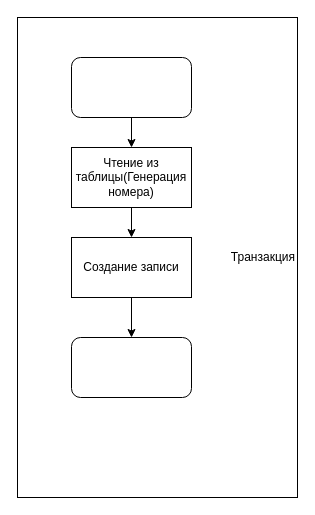
The diagram is 315 pixels wide and 515 high, and some of its shapes have lost their labels. The shapes that lost their labels are listed below. From the top down, each one's centre as x and y in pixels, then its label:
[131,87]: begin
[131,367]: commit
